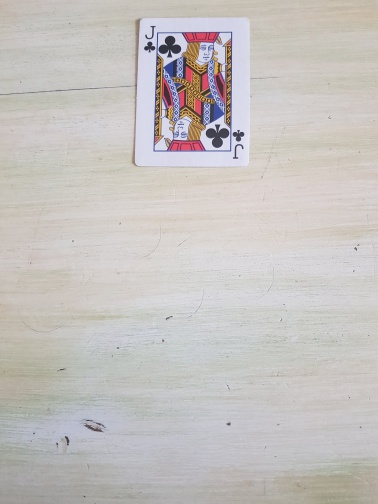jack: (132, 16, 252, 169)
